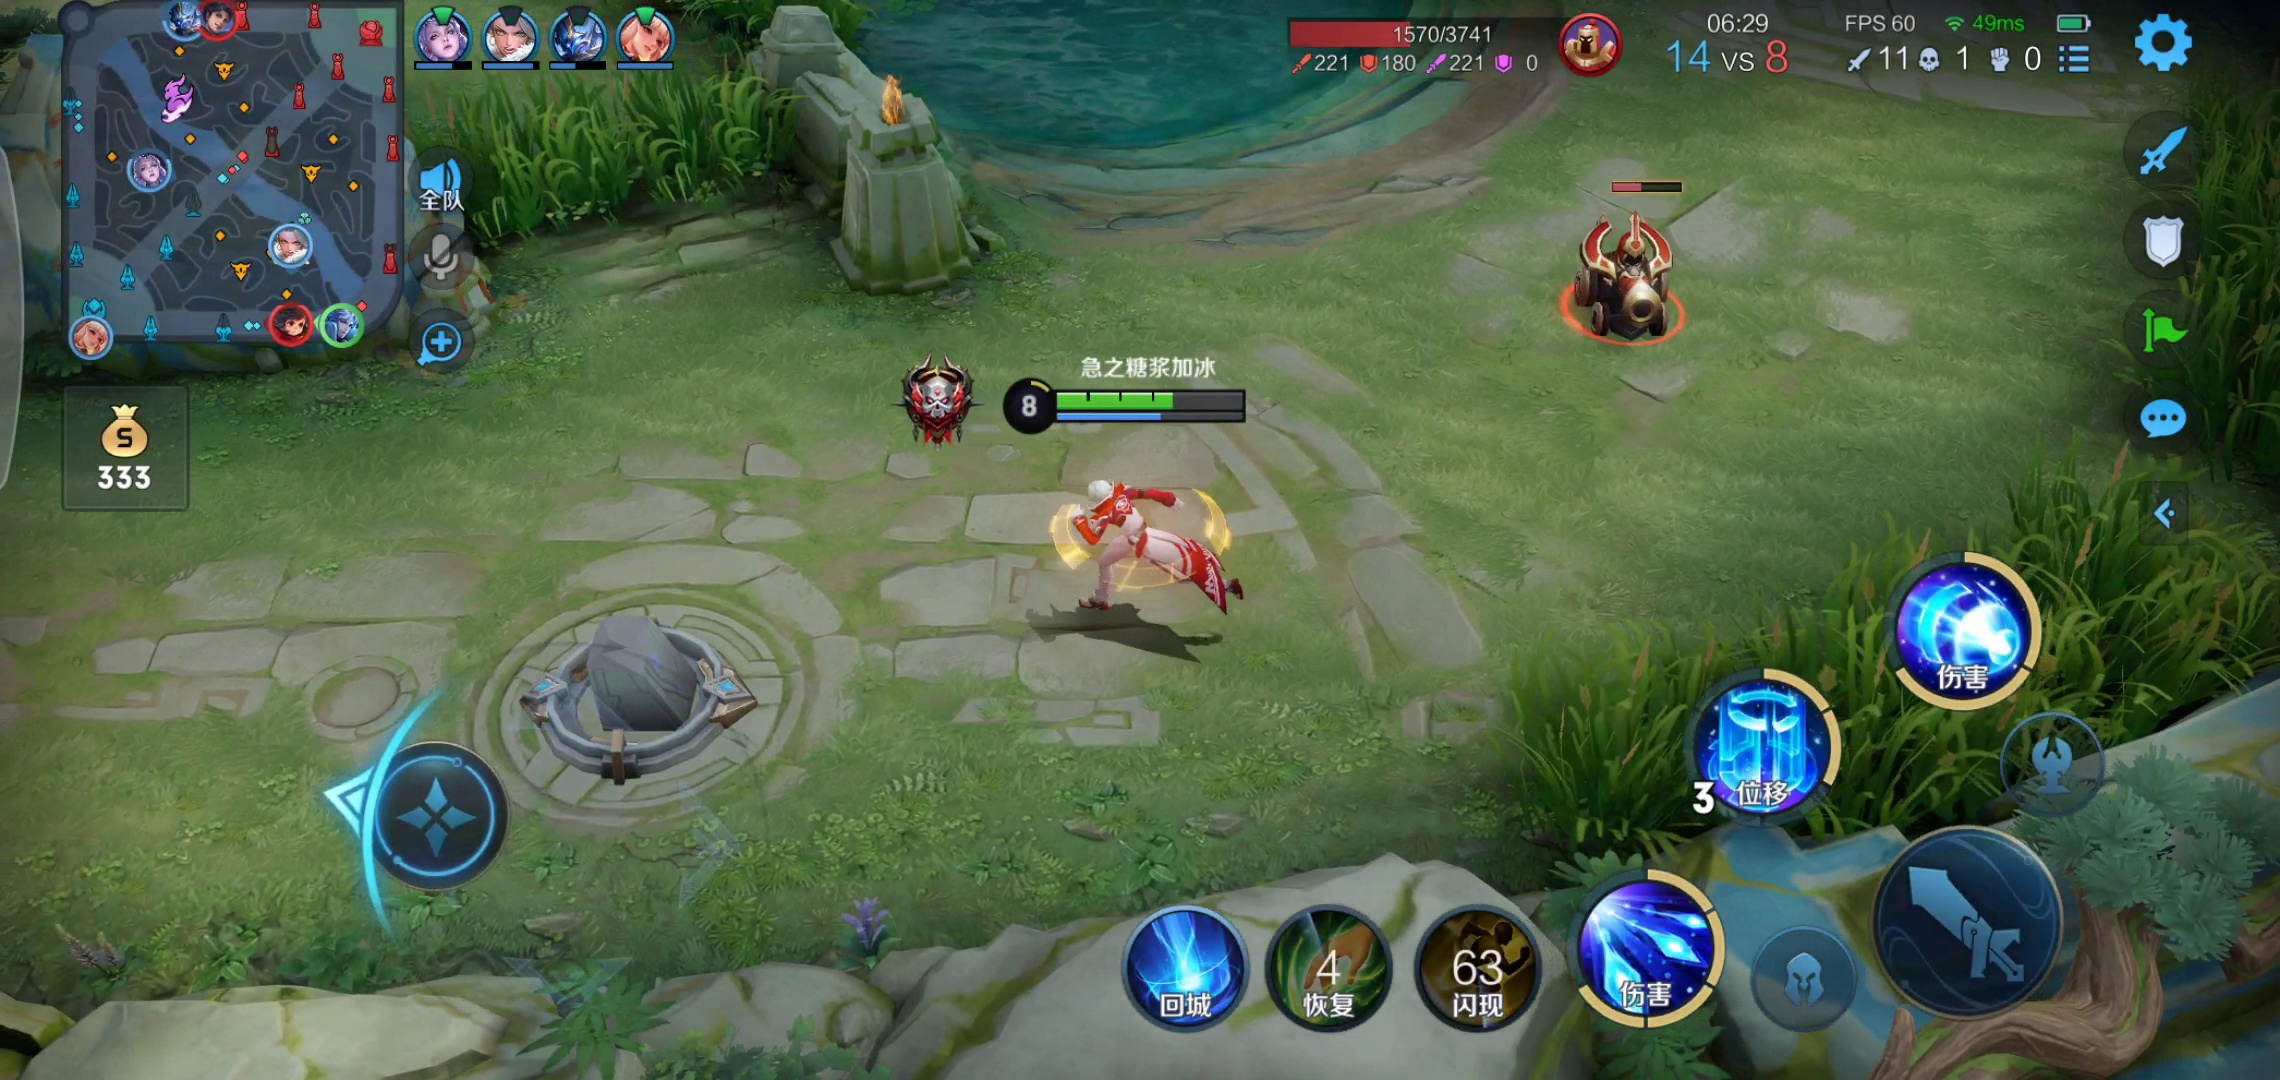grass: (1553, 504, 2279, 801), (2133, 97, 2279, 449), (430, 77, 792, 217)
hero: (1028, 474, 1264, 618)
soldier: (1559, 173, 1698, 346)
